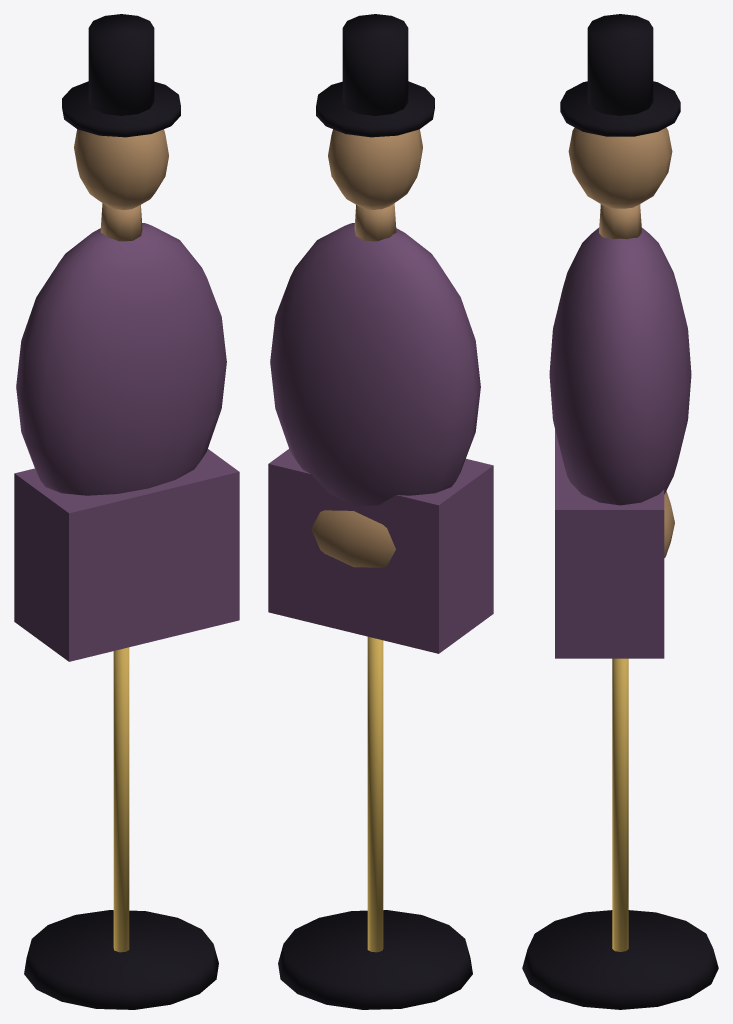
Rendered from SM_PRP_ManequimB.fbx.
3 views of the same model, side by side, from view 1: azimuth 30°, elevation 25°; view 2: azimuth 150°, elevation 25°; view 3: azimuth 270°, elevation 25° (orthographic).
Parts seen in each view (by area): view 1: SM_PRP_ManequimB; view 2: SM_PRP_ManequimB; view 3: SM_PRP_ManequimB.
Part boxes in pixels (x1,y1,x2,y2): SM_PRP_ManequimB: [14, 14, 239, 1009]; SM_PRP_ManequimB: [268, 14, 493, 1009]; SM_PRP_ManequimB: [522, 14, 718, 1009].
Size of the model in its own units: 0.42 by 1.9 by 0.36.
